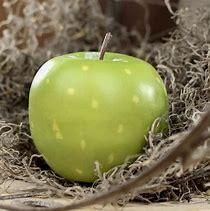apple: (30, 48, 178, 179)
